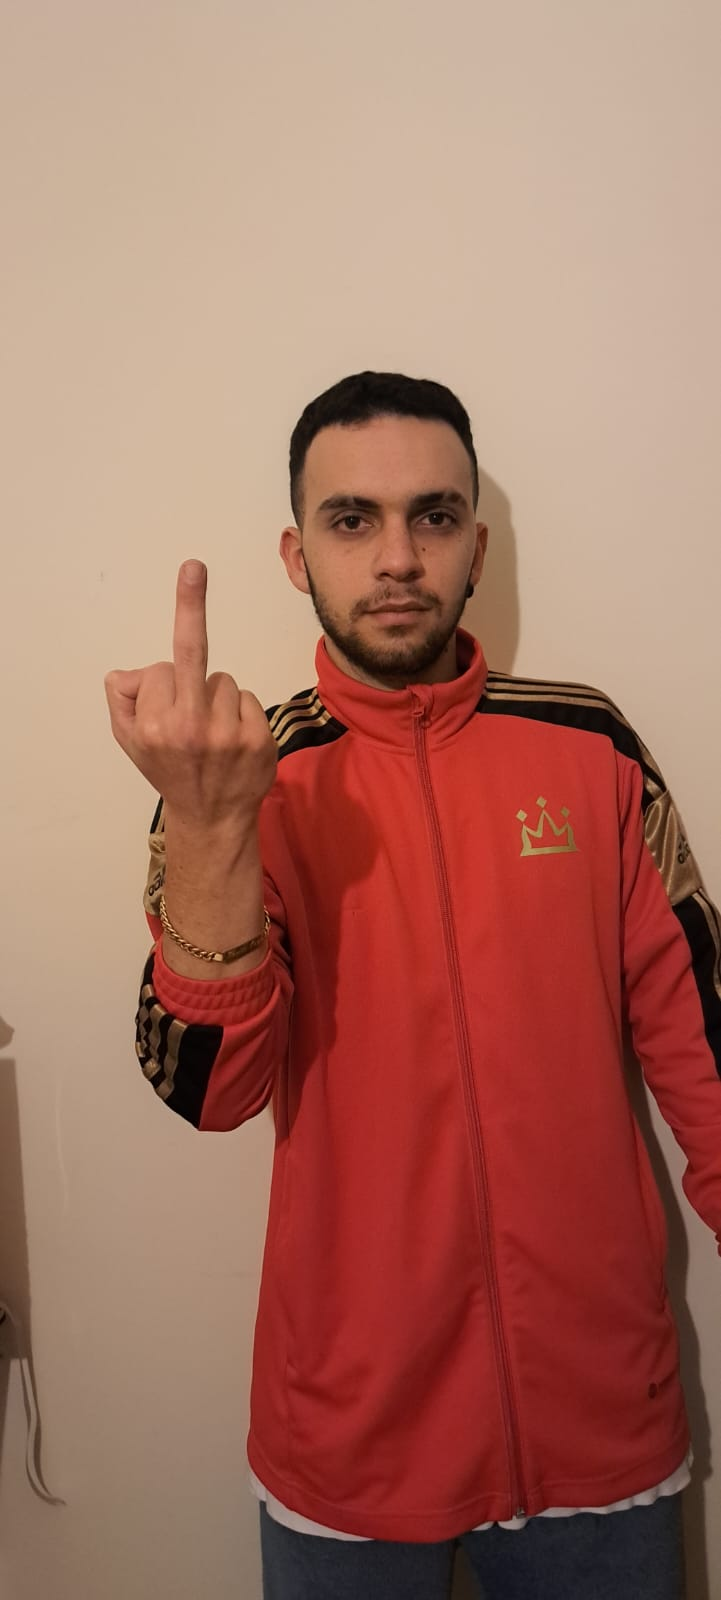fck: (96, 557, 281, 829)
